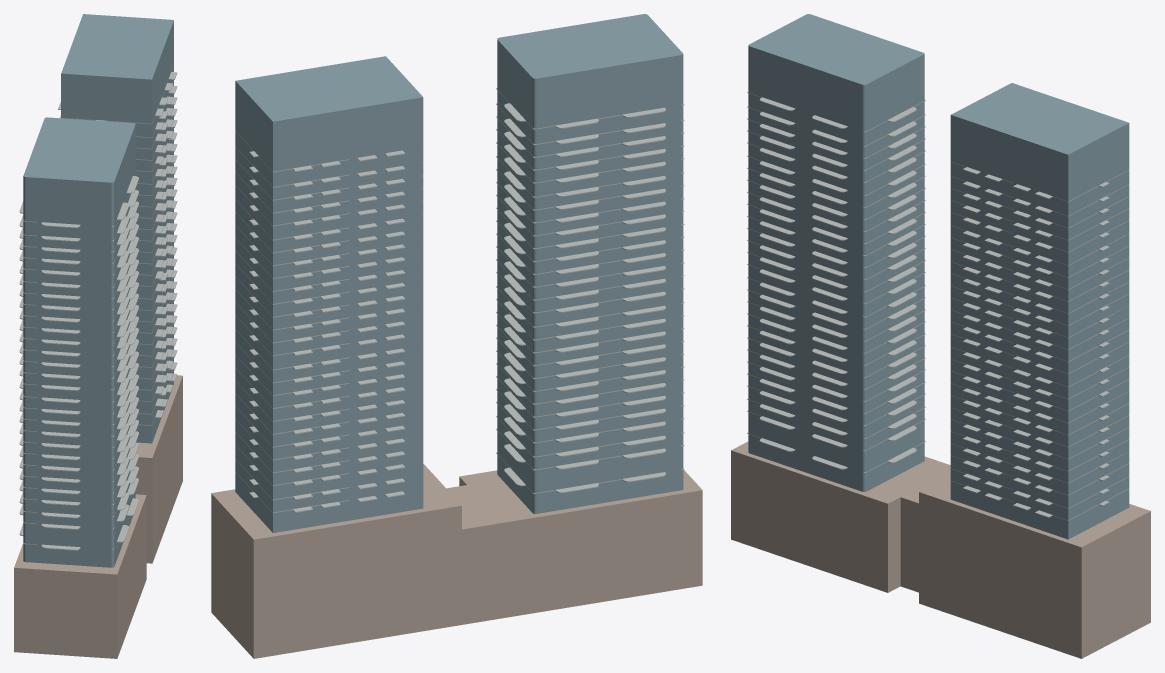
File: promenade-infill-plan-derived.glb
The picture shows the model from 3 angles, left to right: view 1: azimuth 30°, elevation 25°; view 2: azimuth 150°, elevation 25°; view 3: azimuth 270°, elevation 25°; orthographic projection. The views are drawn at different scales.
Visible parts, largest first — view 1: promenade-west-tower, promenade-east-tower, promenade-six-storey-podium, promenade-seven-storey-podium, promenade-west-balcony-216.95, promenade-west-balcony-131.95, promenade-west-balcony-140.45, promenade-west-balcony-213.35, promenade-west-balcony-170.75, promenade-west-balcony-201.05, promenade-west-balcony-210.35, promenade-west-balcony-155.75 (+21 smaller); view 2: promenade-east-tower, promenade-west-tower, promenade-seven-storey-podium, promenade-six-storey-podium, promenade-west-balcony-143.75, promenade-west-balcony-137.45, promenade-west-balcony-164.75, promenade-west-balcony-216.95, promenade-west-balcony-146.75, promenade-west-balcony-207.35, promenade-west-balcony-195.05, promenade-west-balcony-192.05 (+20 smaller); view 3: promenade-east-tower, promenade-west-tower, promenade-seven-storey-podium, promenade-six-storey-podium, promenade-west-balcony-170.75, promenade-west-balcony-180.05, promenade-west-balcony-183.05, promenade-west-balcony-177.05, promenade-west-balcony-216.95, promenade-west-balcony-174.05, promenade-west-balcony-167.75, promenade-west-balcony-164.75 (+20 smaller).
Part boxes in pixels (left/top/right/bottom): promenade-west-tower: left=23, top=117, right=135, bottom=567; promenade-east-tower: left=61, top=14, right=173, bottom=443; promenade-six-storey-podium: left=14, top=494, right=146, bottom=658; promenade-seven-storey-podium: left=135, top=375, right=182, bottom=563; promenade-west-balcony-216.95: left=19, top=167, right=138, bottom=227; promenade-west-balcony-131.95: left=19, top=490, right=138, bottom=550; promenade-west-balcony-140.45: left=19, top=466, right=138, bottom=518; promenade-west-balcony-213.35: left=19, top=190, right=138, bottom=241; promenade-west-balcony-170.75: left=19, top=351, right=138, bottom=403; promenade-west-balcony-201.05: left=19, top=236, right=138, bottom=288; promenade-west-balcony-210.35: left=19, top=201, right=138, bottom=253; promenade-west-balcony-155.75: left=19, top=408, right=138, bottom=460; promenade-east-tower: left=235, top=56, right=423, bottom=532; promenade-west-tower: left=497, top=14, right=683, bottom=513; promenade-seven-storey-podium: left=211, top=464, right=461, bottom=658; promenade-six-storey-podium: left=446, top=469, right=702, bottom=624; promenade-west-balcony-143.75: left=496, top=401, right=684, bottom=443; promenade-west-balcony-137.45: left=496, top=428, right=684, bottom=470; promenade-west-balcony-164.75: left=496, top=311, right=684, bottom=353; promenade-west-balcony-216.95: left=496, top=88, right=684, bottom=129; promenade-west-balcony-146.75: left=496, top=389, right=684, bottom=430; promenade-west-balcony-207.35: left=496, top=129, right=683, bottom=170; promenade-west-balcony-195.05: left=496, top=182, right=684, bottom=223; promenade-west-balcony-192.05: left=496, top=194, right=684, bottom=236; promenade-east-tower: left=950, top=83, right=1129, bottom=539; promenade-west-tower: left=748, top=14, right=924, bottom=491; promenade-seven-storey-podium: left=919, top=475, right=1150, bottom=658; promenade-six-storey-podium: left=731, top=441, right=950, bottom=592; promenade-west-balcony-170.75: left=747, top=277, right=925, bottom=317; promenade-west-balcony-180.05: left=747, top=240, right=925, bottom=280; promenade-west-balcony-183.05: left=747, top=228, right=925, bottom=268; promenade-west-balcony-177.05: left=747, top=252, right=925, bottom=292; promenade-west-balcony-216.95: left=747, top=92, right=925, bottom=132; promenade-west-balcony-174.05: left=747, top=264, right=925, bottom=304; promenade-west-balcony-167.75: left=747, top=289, right=925, bottom=329; promenade-west-balcony-164.75: left=747, top=301, right=925, bottom=342.
Bounding box in the file's own units: 83.3 × 124 × 94.9.
